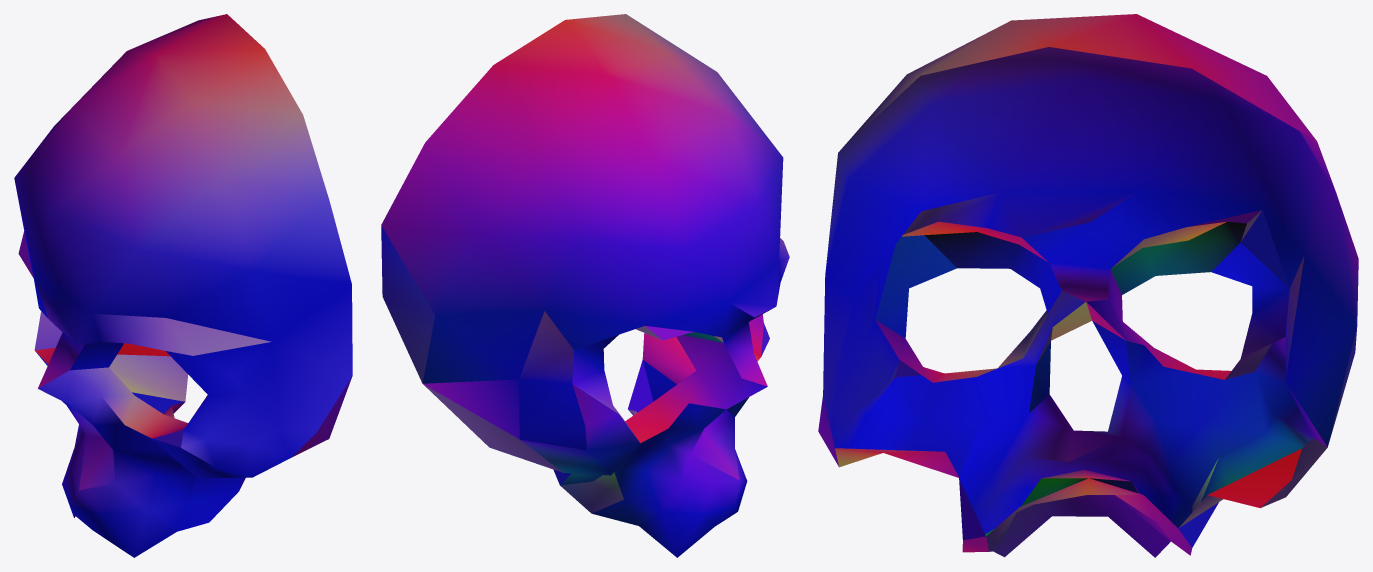
File: uni_skull.fbx
The picture shows the model from 3 angles, left to right: view 1: azimuth 30°, elevation 25°; view 2: azimuth 150°, elevation 25°; view 3: azimuth 270°, elevation 25°; orthographic projection. The views are drawn at different scales.
Parts seen in each view (by area): view 1: uni_skull; view 2: uni_skull; view 3: uni_skull.
Boxes of the visible parts, x1,y1,x2,y2 form: uni_skull: [14, 14, 352, 557]; uni_skull: [381, 14, 789, 557]; uni_skull: [818, 14, 1358, 557].
Size of the model in its own units: 9603 by 7451 by 11913.
